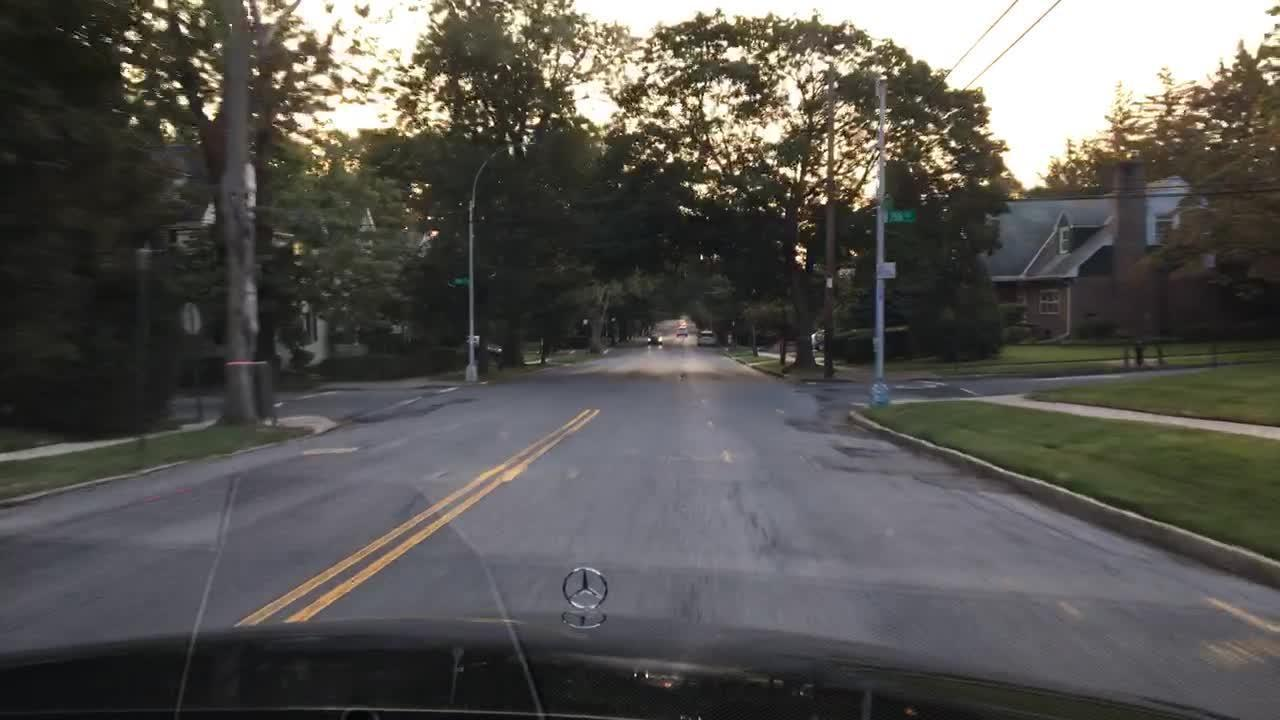Mercedes: (564, 563, 609, 612)
